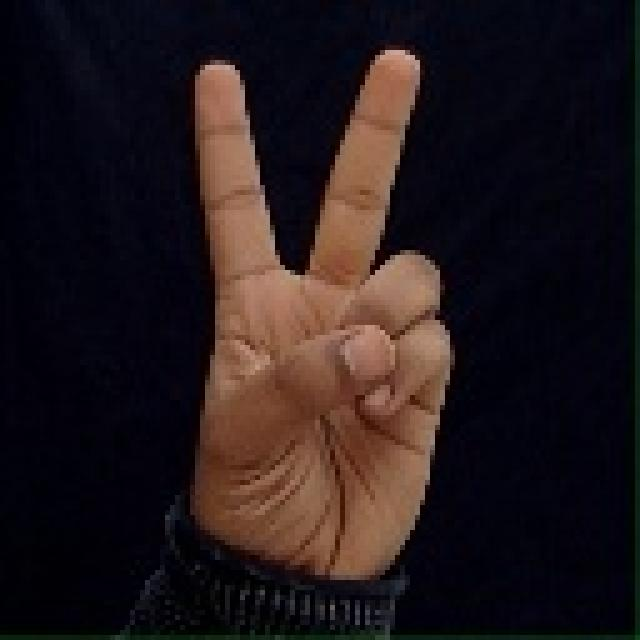Numeric-2: (187, 38, 453, 562)
